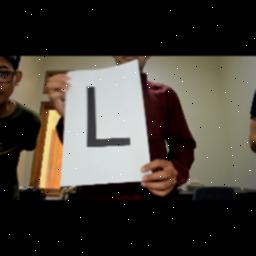l: (74, 79, 136, 159)
